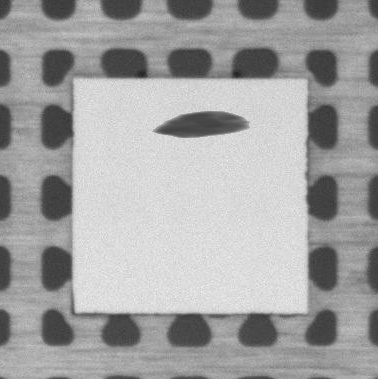DIE_INK: (148, 109, 256, 139)
